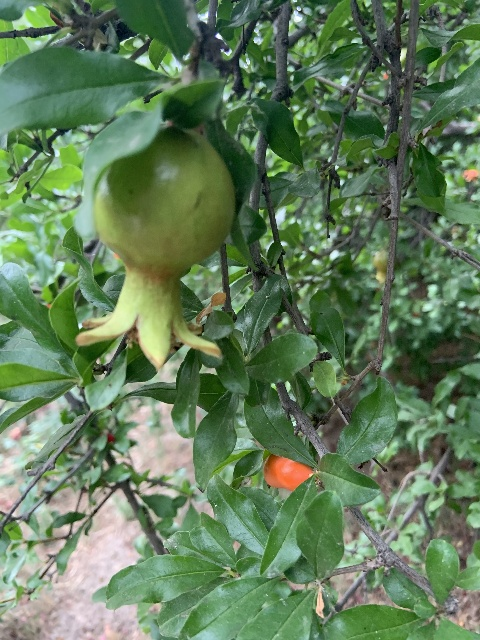bud: (263, 453, 313, 491)
mid-growth: (76, 124, 236, 372), (370, 250, 387, 282)
